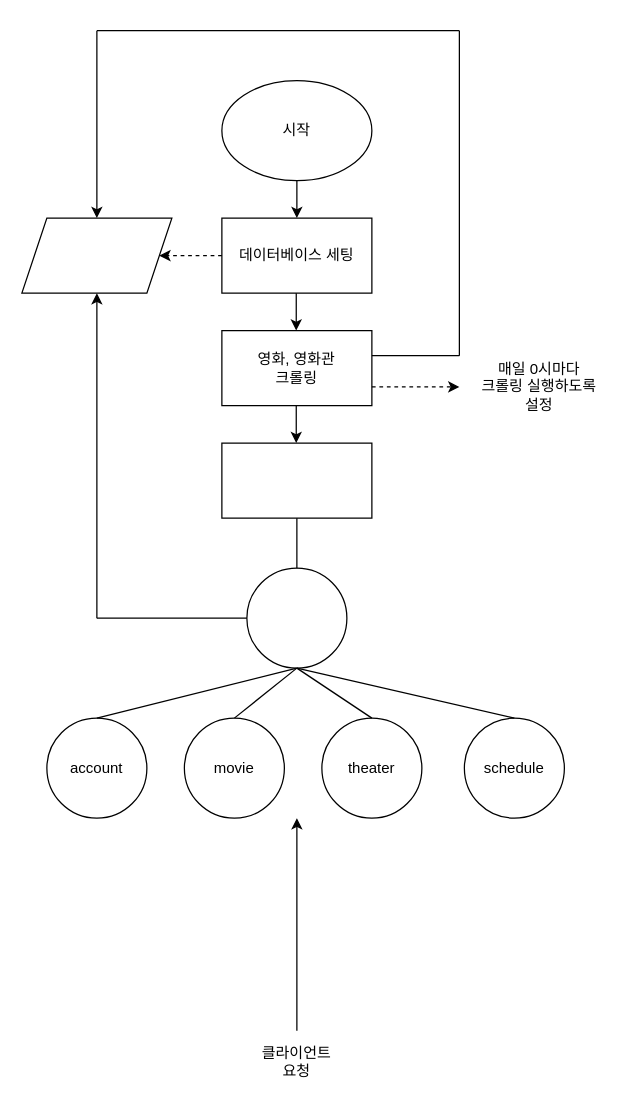
The diagram is 636 pixels wide and 1115 high, and some of its shapes have lost their labels. The shapes that lost their labels are listed below. From the top down, each one's centre as x and y in pixels, then its label:
the point at 96,255: DB 인터페이스
the point at 296,480: REST API 서버
the point at 296,617: Router
